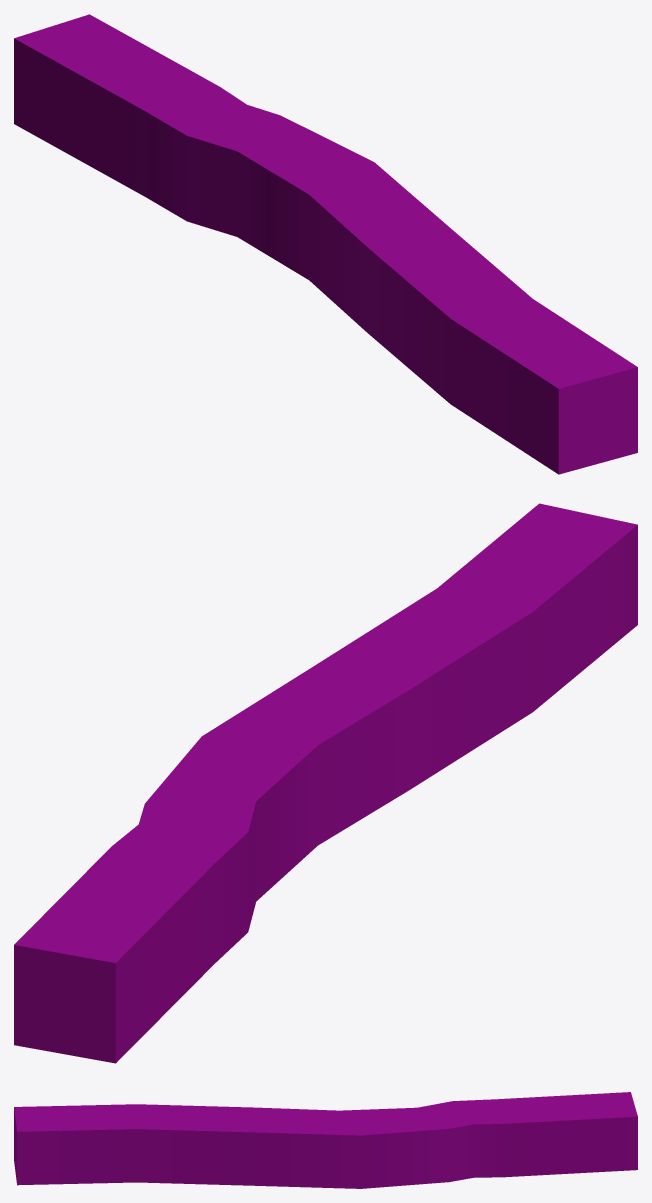
File: Carrot1.FBX
The picture shows the model from 3 angles, top to bottom: view 1: azimuth 30°, elevation 25°; view 2: azimuth 150°, elevation 25°; view 3: azimuth 270°, elevation 25°; orthographic projection. The views are drawn at different scales.
Visible parts, largest first — view 1: Carrot_1; view 2: Carrot_1; view 3: Carrot_1.
Boxes of the visible parts, <box> form: Carrot_1: <box>14,14,637,474</box>; Carrot_1: <box>14,503,637,1063</box>; Carrot_1: <box>14,1092,637,1188</box>.
Bounding box in the file's own units: 1.9 × 1.09 × 11.51.
